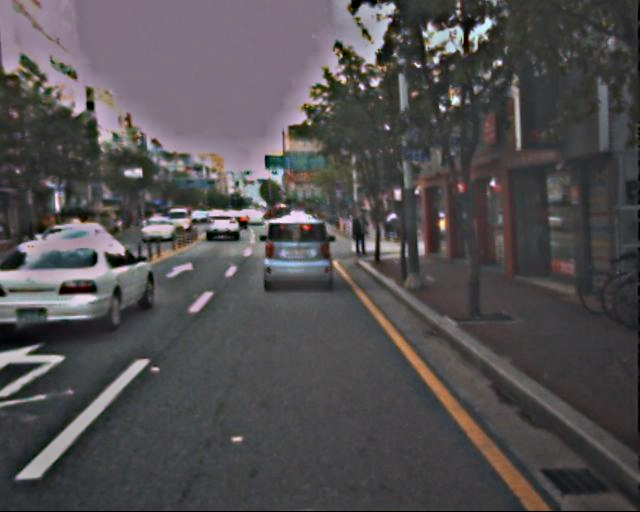person: (348, 209, 369, 259)
